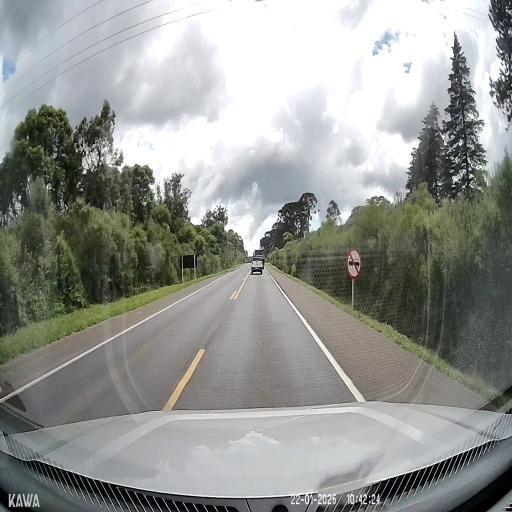R-7: (347, 250, 361, 278)
